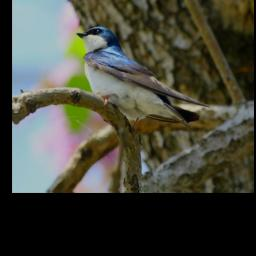Swallow: (76, 22, 213, 139)
